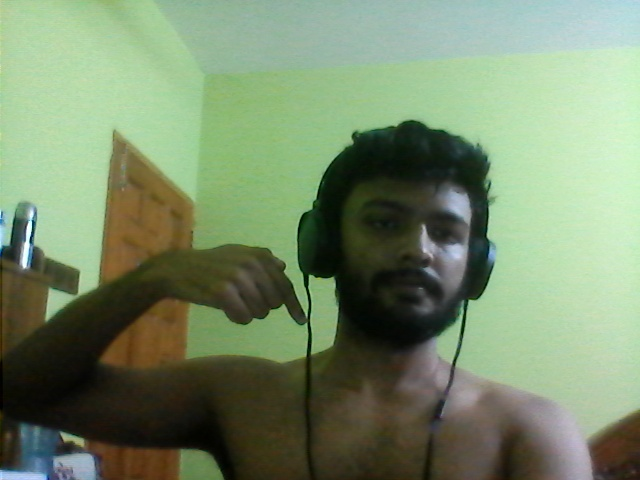I: (154, 236, 311, 340)
